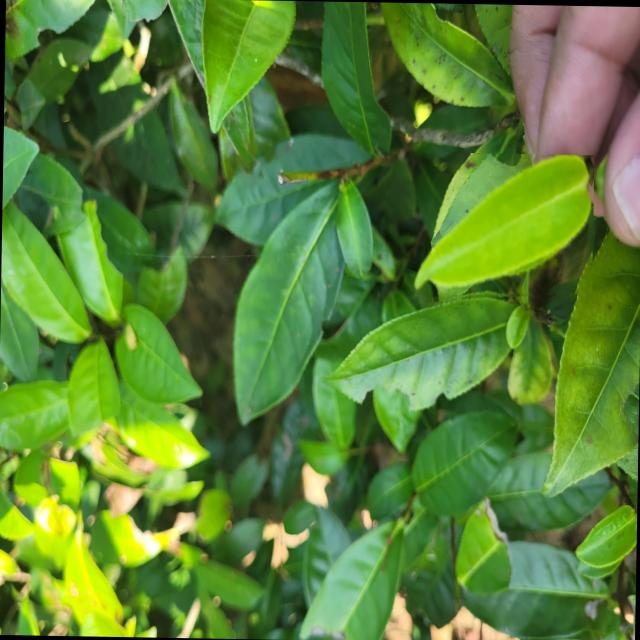Catagory A(1-2 days): (391, 150, 594, 304)
